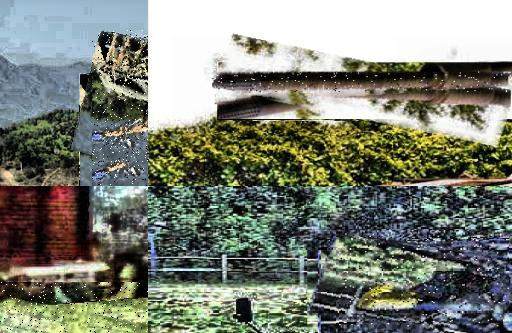tanks: (338, 232, 510, 327), (213, 74, 512, 93), (1, 297, 149, 333), (375, 175, 512, 187)
